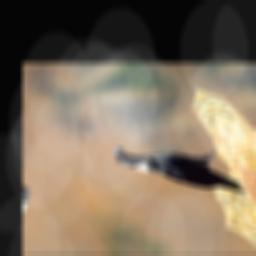Crow: (106, 119, 256, 221)
